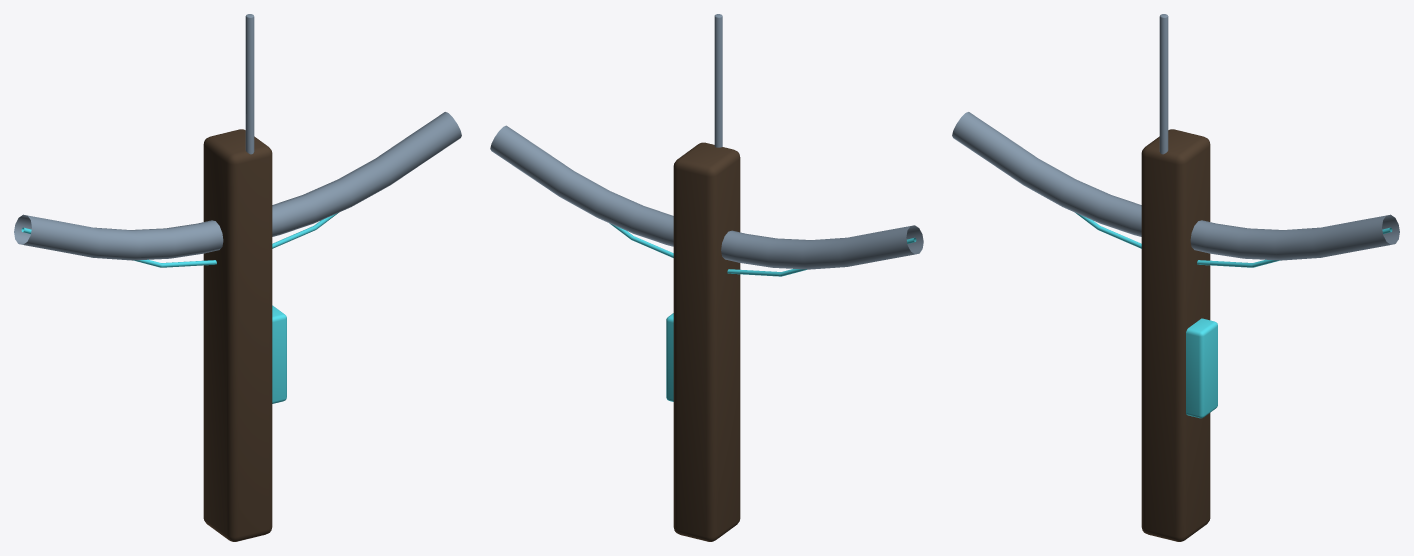
File: bow_v6.glb
3 views of the same model, side by side, from view 1: azimuth 30°, elevation 25°; view 2: azimuth 150°, elevation 25°; view 3: azimuth 330°, elevation 25° (orthographic). The views are drawn at different scales.
Visible parts, largest first — view 1: CROSSBOW_STOCK_SECONDARY, CROSSBOW_LIMB_PRIMARY, CROSSBOW_BOLT_PRIMARY, CROSSBOW_TRIGGER_ACCENT, CROSSBOW_STRING_ACCENT; view 2: CROSSBOW_STOCK_SECONDARY, CROSSBOW_LIMB_PRIMARY, CROSSBOW_BOLT_PRIMARY, CROSSBOW_STRING_ACCENT, CROSSBOW_TRIGGER_ACCENT; view 3: CROSSBOW_STOCK_SECONDARY, CROSSBOW_LIMB_PRIMARY, CROSSBOW_TRIGGER_ACCENT, CROSSBOW_BOLT_PRIMARY, CROSSBOW_STRING_ACCENT.
Boxes of the visible parts, x1=… form: CROSSBOW_STOCK_SECONDARY: x1=203, y1=129, x2=272, y2=541; CROSSBOW_LIMB_PRIMARY: x1=14, y1=112, x2=461, y2=260; CROSSBOW_BOLT_PRIMARY: x1=245, y1=14, x2=254, y2=154; CROSSBOW_TRIGGER_ACCENT: x1=272, y1=305, x2=286, y2=403; CROSSBOW_STRING_ACCENT: x1=21, y1=212, x2=338, y2=267; CROSSBOW_STOCK_SECONDARY: x1=673, y1=142, x2=740, y2=541; CROSSBOW_LIMB_PRIMARY: x1=490, y1=125, x2=923, y2=269; CROSSBOW_BOLT_PRIMARY: x1=714, y1=14, x2=722, y2=147; CROSSBOW_STRING_ACCENT: x1=609, y1=223, x2=916, y2=276; CROSSBOW_TRIGGER_ACCENT: x1=666, y1=313, x2=673, y2=401; CROSSBOW_STOCK_SECONDARY: x1=1141, y1=129, x2=1210, y2=541; CROSSBOW_LIMB_PRIMARY: x1=952, y1=112, x2=1399, y2=260; CROSSBOW_TRIGGER_ACCENT: x1=1186, y1=318, x2=1217, y2=418; CROSSBOW_BOLT_PRIMARY: x1=1159, y1=14, x2=1168, y2=154; CROSSBOW_STRING_ACCENT: x1=1075, y1=212, x2=1392, y2=267.
Bounding box in the file's own units: 2.96 × 3.37 × 0.36.
